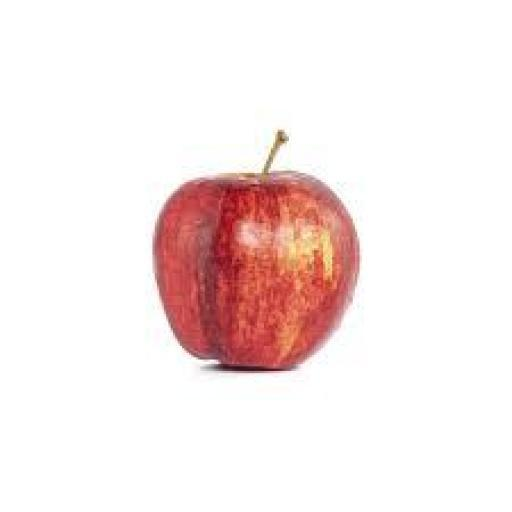apple: (155, 132, 359, 368)
